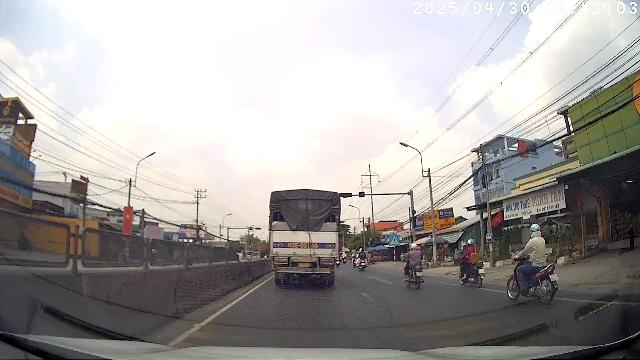423a-duong-nguoi-di-bo-sang-ngang-1: (389, 235, 400, 245)
